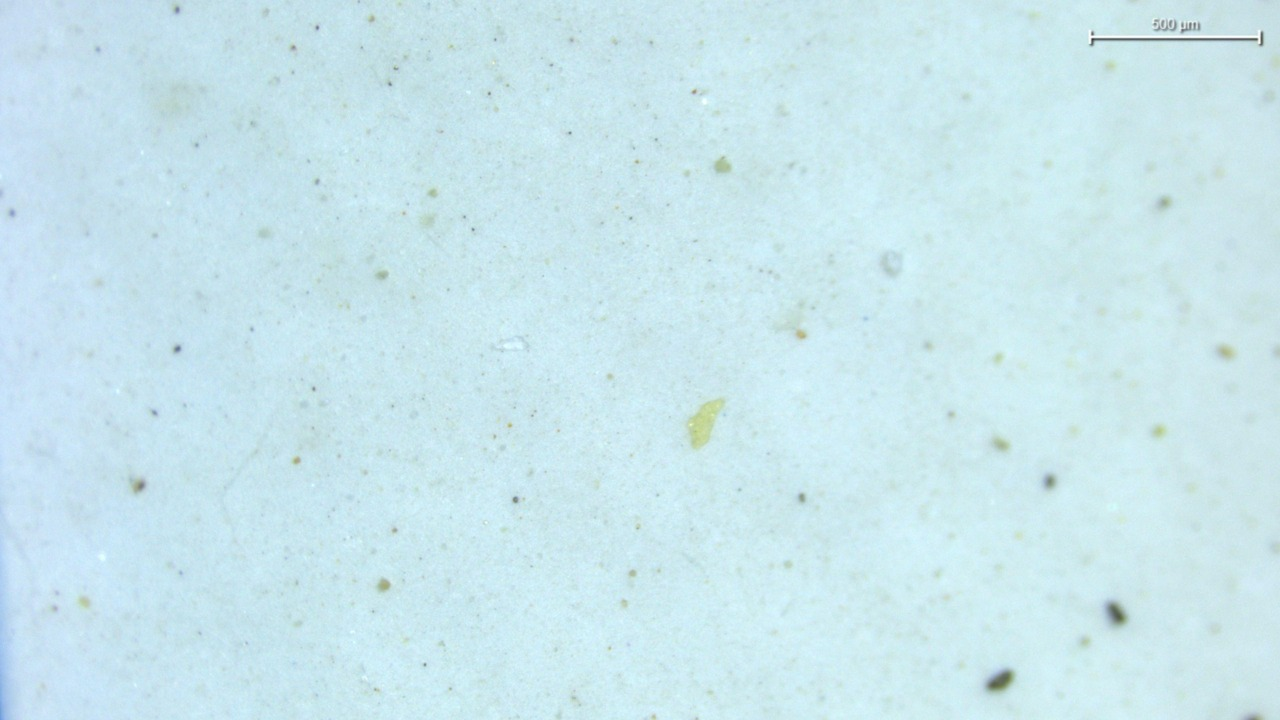microplastic_fragment: (687, 398, 725, 449), (495, 336, 528, 351)
